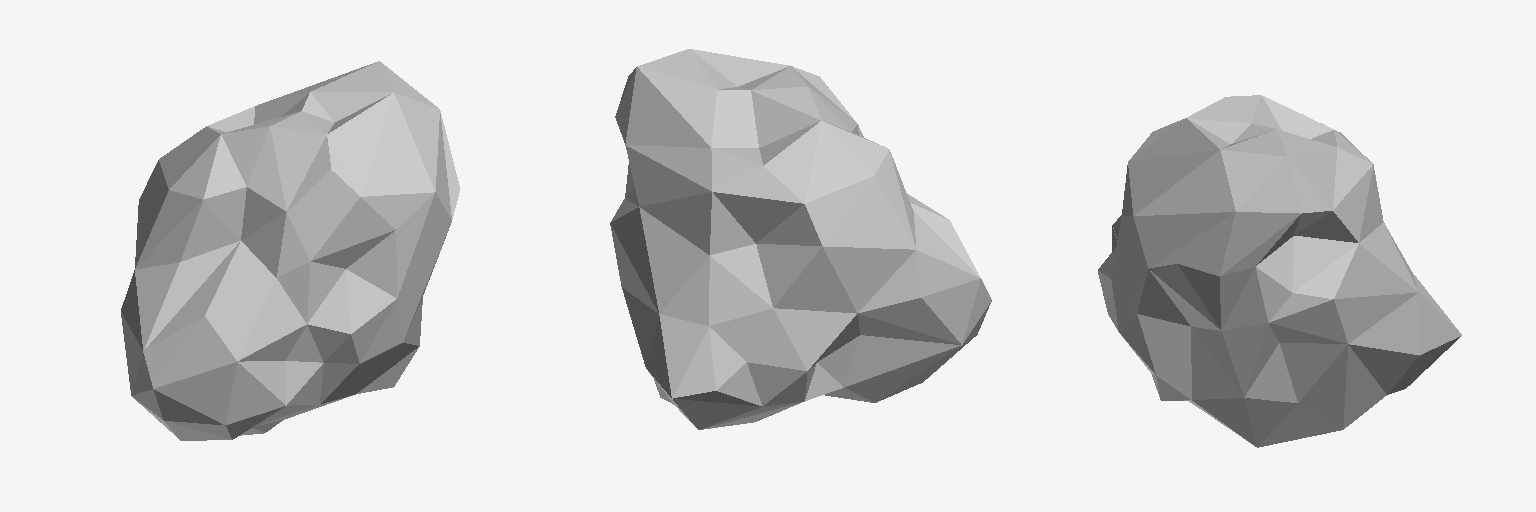
File: AsteroidB.obj
3 views of the same model, side by side, from view 1: azimuth 30°, elevation 25°; view 2: azimuth 150°, elevation 25°; view 3: azimuth 270°, elevation 25° (orthographic).
Visible parts, largest first — view 1: AsteroidB; view 2: AsteroidB; view 3: AsteroidB.
Part boxes in pixels (bbox=[...]): AsteroidB: bbox=[121, 61, 459, 440]; AsteroidB: bbox=[610, 49, 991, 429]; AsteroidB: bbox=[1098, 95, 1461, 447].
Size of the model in its own units: 2.65 by 2.49 by 2.56.